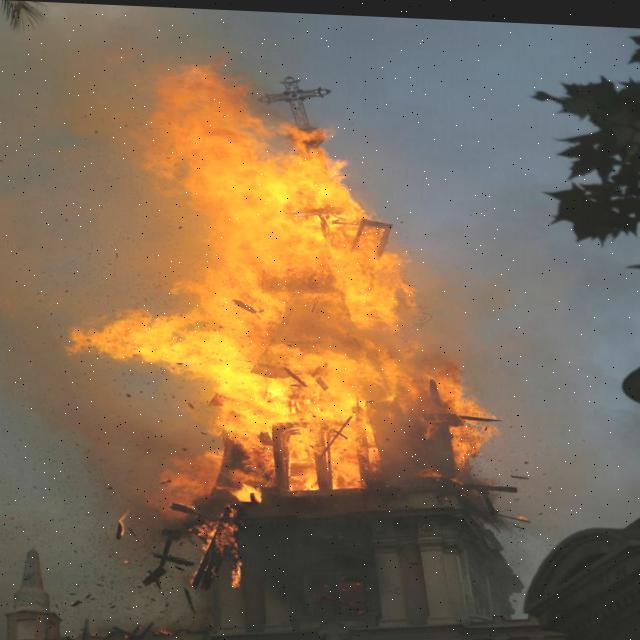Fire: (82, 60, 496, 498)
